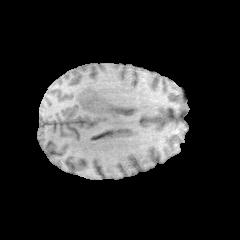glioma: (69, 83, 118, 115)
